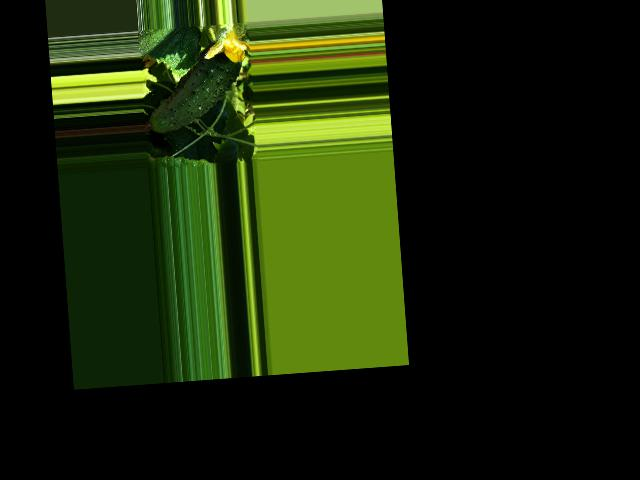cucumber: (138, 40, 246, 135)
